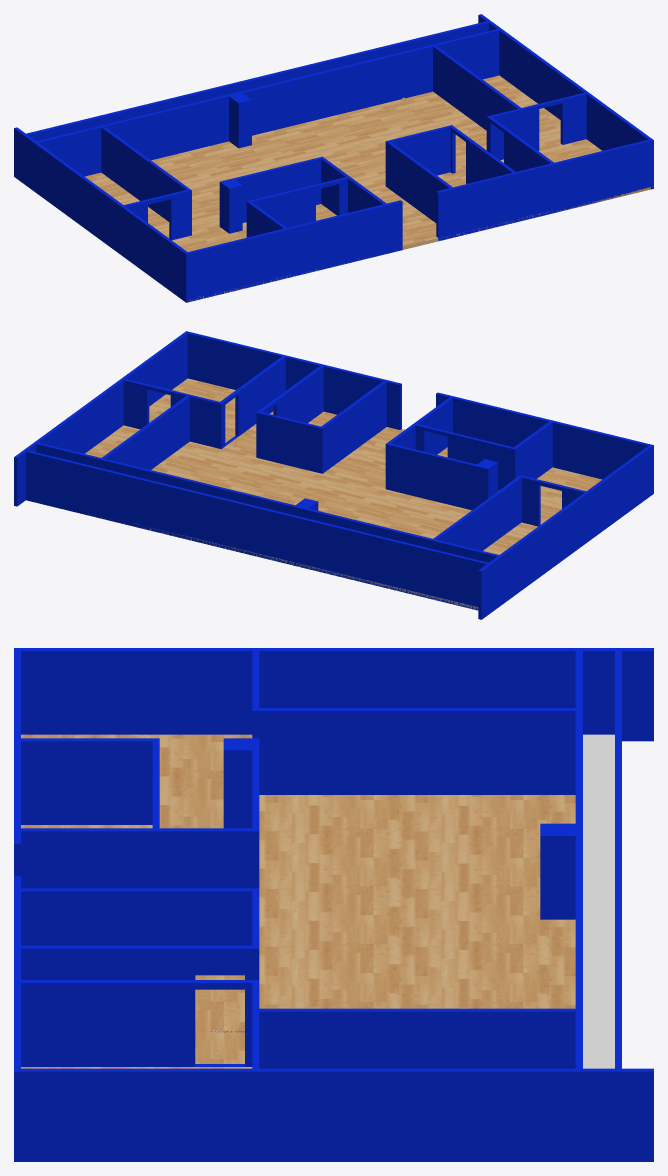
Rendered from Food_Game_Level_1_Mouse_Hole.fbx.
3 renders of one model, top to bottom at view 1: azimuth 30°, elevation 25°; view 2: azimuth 150°, elevation 25°; view 3: azimuth 270°, elevation 25°, orthographic. The views are drawn at different scales.
Visible parts, largest first — view 1: Inner_Walls, Floor, Outside_Wall, Outside_Wall.002; view 2: Inner_Walls, Outside_Wall, Floor, Outside_Wall.002, Outside_Wall.001, Outside_Wall.003; view 3: Inner_Walls, Floor, Outside_Wall.001, Outside_Wall.003, Outside_Wall.002, Outside_Wall.
Boxes of the visible parts, box(x1,y1,x2,y2) form: Inner_Walls: box(33, 28, 653, 302); Floor: box(85, 75, 650, 301); Outside_Wall: box(25, 21, 490, 141); Outside_Wall.002: box(14, 127, 35, 190); Inner_Walls: box(33, 331, 653, 605); Outside_Wall: box(26, 450, 489, 610); Floor: box(85, 378, 601, 554); Outside_Wall.002: box(478, 556, 500, 619); Outside_Wall.001: box(88, 514, 478, 610); Outside_Wall.003: box(14, 443, 36, 506); Inner_Walls: box(14, 648, 582, 1161); Floor: box(21, 734, 575, 1068); Outside_Wall.001: box(583, 734, 614, 1068); Outside_Wall.003: box(583, 1068, 653, 1161); Outside_Wall.002: box(583, 648, 653, 741); Outside_Wall: box(615, 649, 621, 1070).
Size of the model in its own units: 14100 by 1400 by 9000.
